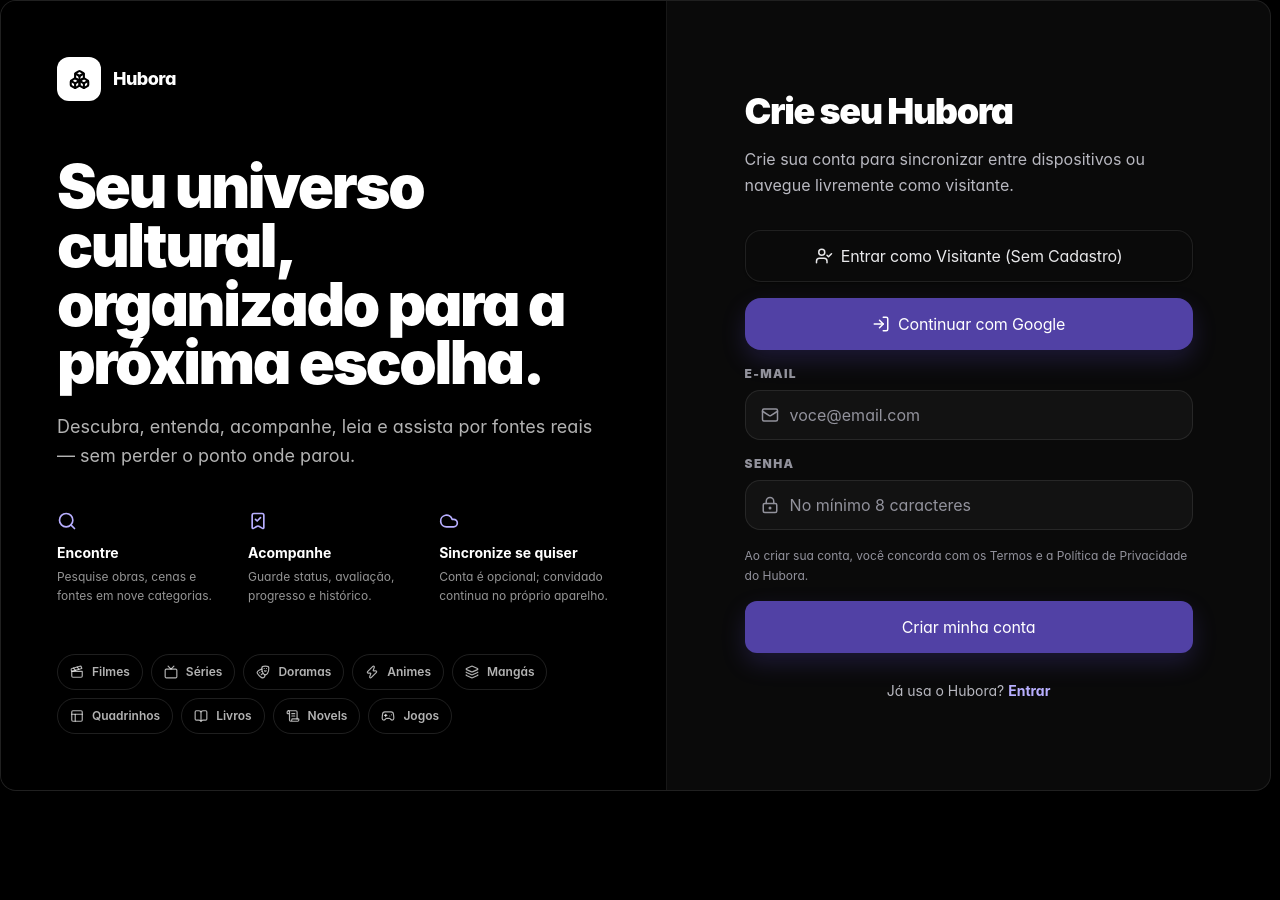
cadastro por e-mail › explica a confirmação quando o Supabase não inicia uma sessão
The image size is (1280, 900).
In the field with placeholder "voce@email.com": (969, 415) [745,390,1193,440], type "pessoa@example.com"
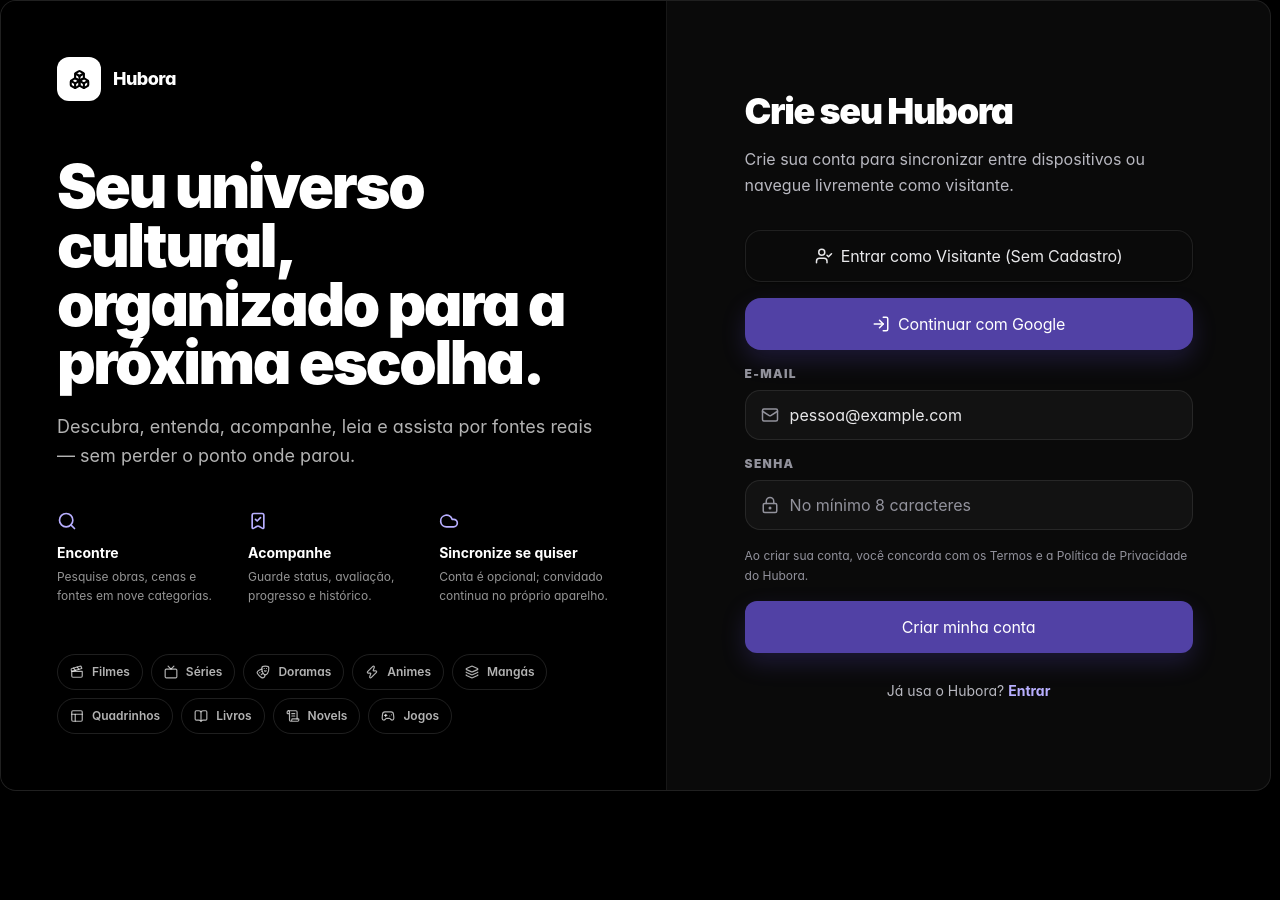
In the password field with placeholder "No mínimo 8 caracteres": (969, 505) [745,480,1193,530], type "senha-segura-123"
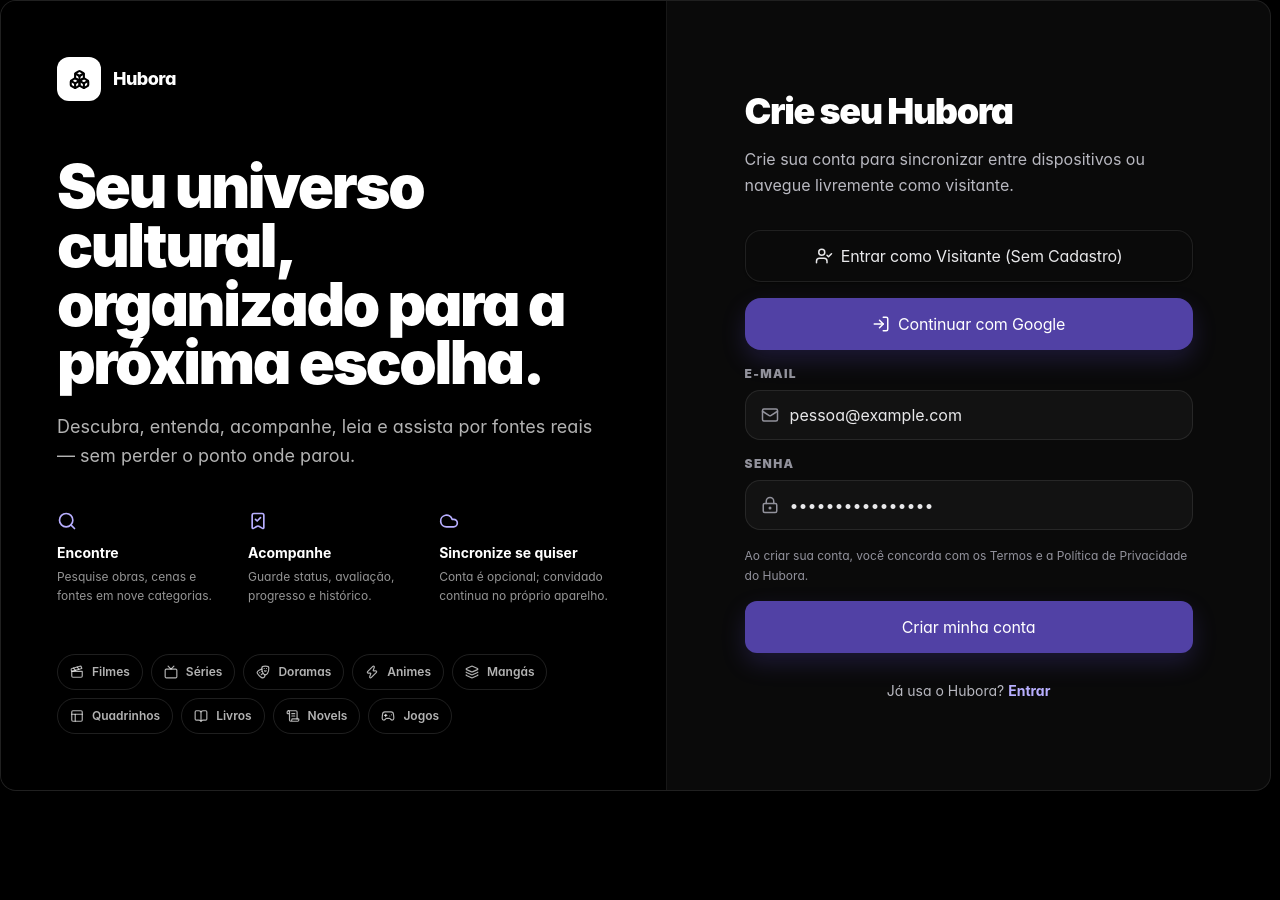
Click the button "Criar minha conta": (969, 627) [745,601,1193,653]
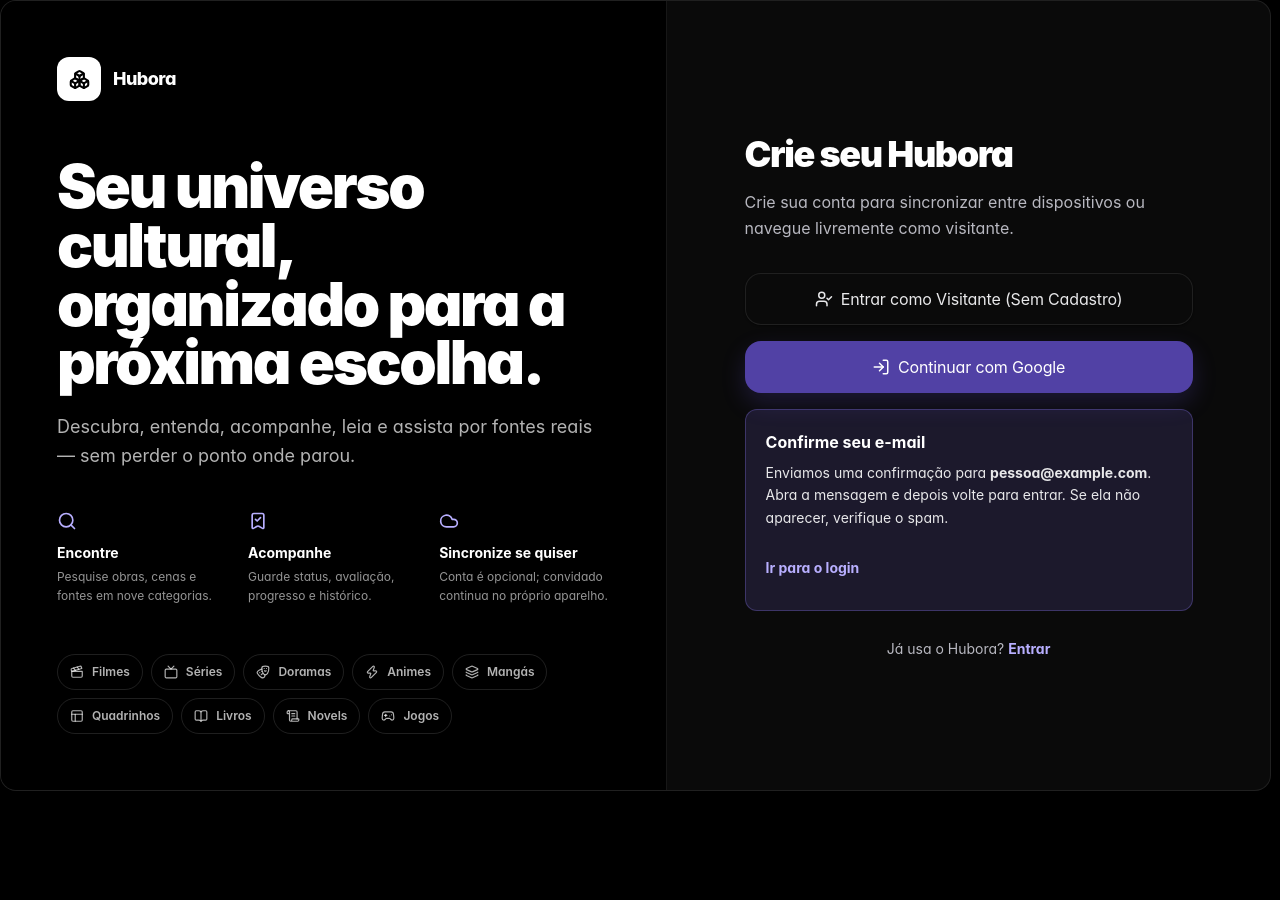
Expected: the message shows "Confirme seu e-mail", [766,432,925,452]
Expected: the text "pessoa@example.com" is shown, [990,464,1147,481]
